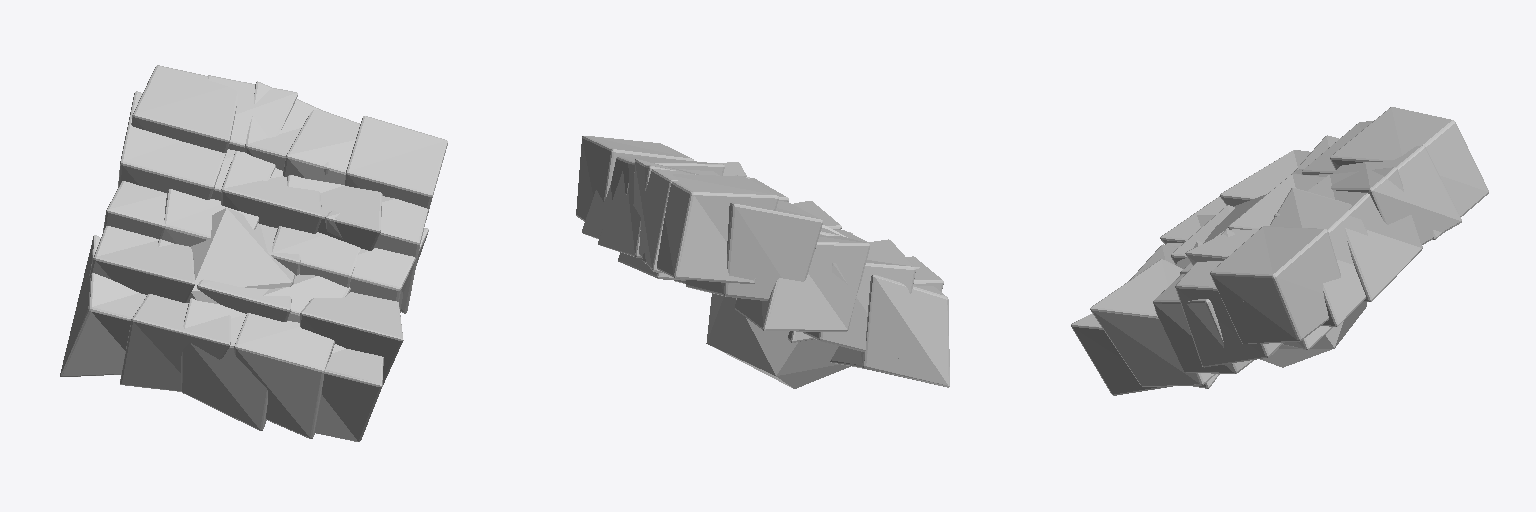
File: ScanningElectronCubes.obj
3 renders of one model, left to right at view 1: azimuth 30°, elevation 25°; view 2: azimuth 150°, elevation 25°; view 3: azimuth 270°, elevation 25°, orthographic.
Visible parts, largest first — view 1: Cube, Icosphere.010_Icosphere.000; view 2: Cube, Icosphere.010_Icosphere.000; view 3: Cube, Icosphere.010_Icosphere.000.
Boxes of the visible parts, x1=… form: Cube: x1=60, y1=65, x2=447, y2=441; Icosphere.010_Icosphere.000: x1=186, y1=208, x2=294, y2=303; Cube: x1=576, y1=136, x2=949, y2=387; Icosphere.010_Icosphere.000: x1=706, y1=225, x2=850, y2=388; Cube: x1=1071, y1=107, x2=1488, y2=395; Icosphere.010_Icosphere.000: x1=1203, y1=194, x2=1366, y2=367.
Size of the model in its own units: 4.4 by 2.89 by 4.22.